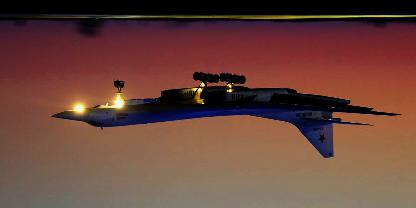Su34: (50, 73, 402, 159)
